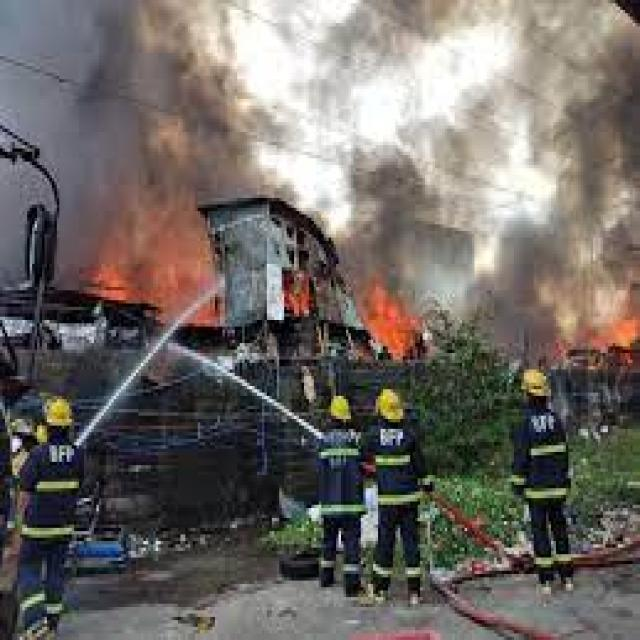Fire: (92, 219, 218, 330), (366, 285, 424, 340)
Smoke: (313, 4, 640, 299), (1, 0, 293, 204), (472, 253, 570, 364)
